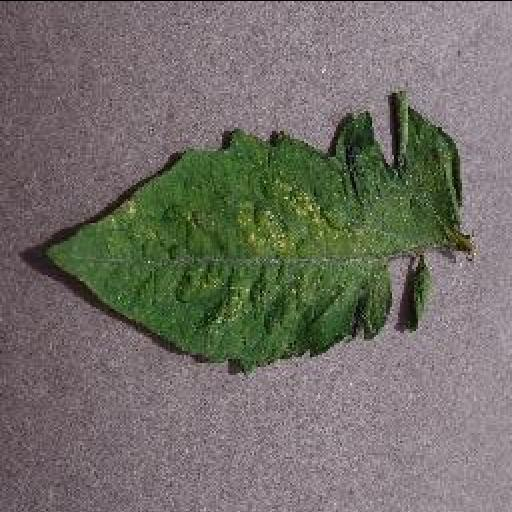disease_tomato: (42, 90, 464, 370)
